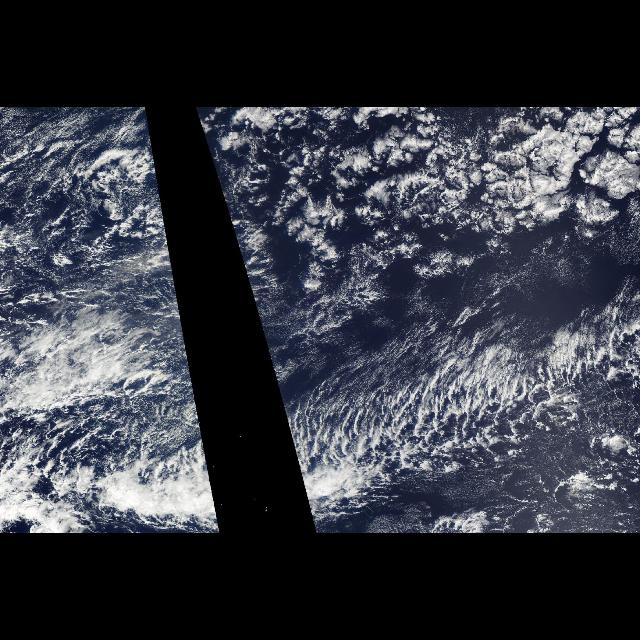Fish: (254, 294, 640, 524), (124, 309, 220, 523)
Flower: (265, 107, 633, 250)
Gravel: (0, 116, 184, 458), (307, 115, 639, 271)
Sugar: (10, 107, 162, 250)
